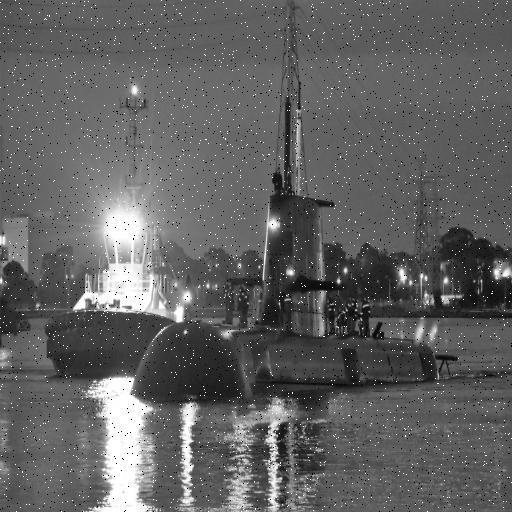submarine: (141, 75, 465, 384)
